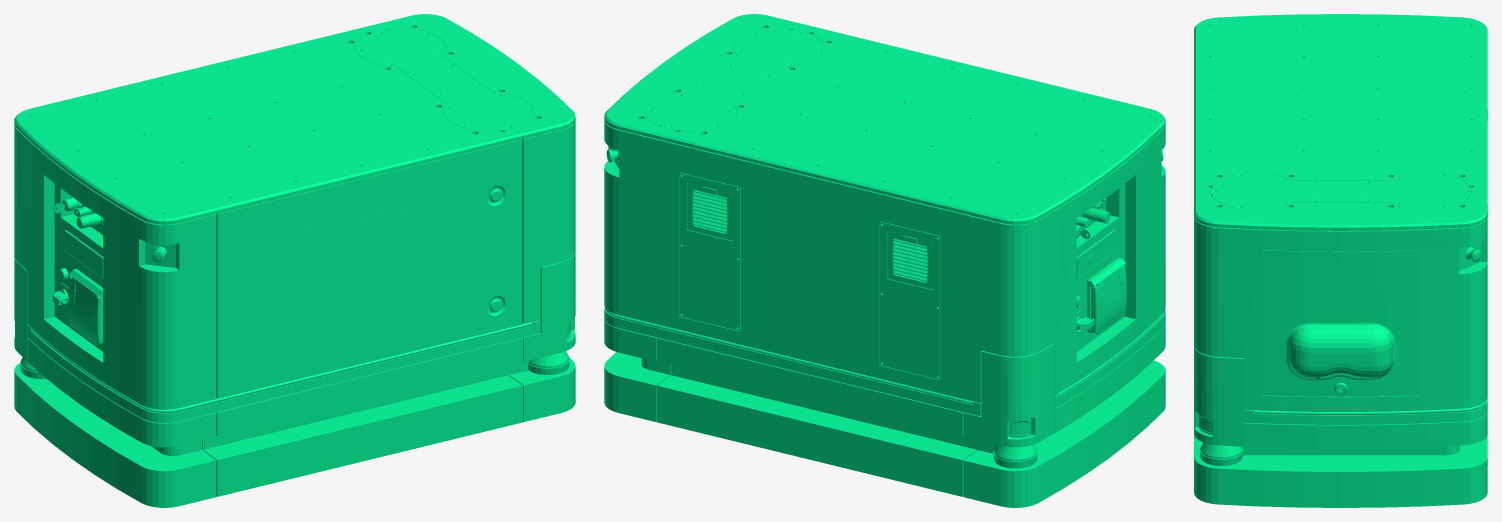
The model's file is KMP200.dae.
3 renders of one model, left to right at view 1: azimuth 30°, elevation 25°; view 2: azimuth 150°, elevation 25°; view 3: azimuth 270°, elevation 25°, orthographic. The views are drawn at different scales.
Parts seen in each view (by area): view 1: node0; view 2: node0; view 3: node0.
Boxes of the visible parts, x1,y1,x2,y2 form: node0: (14,14,575,507); node0: (604,14,1165,507); node0: (1194,14,1487,507).
Bounding box in the file's own units: 1.12 × 0.6304 × 0.6672.
